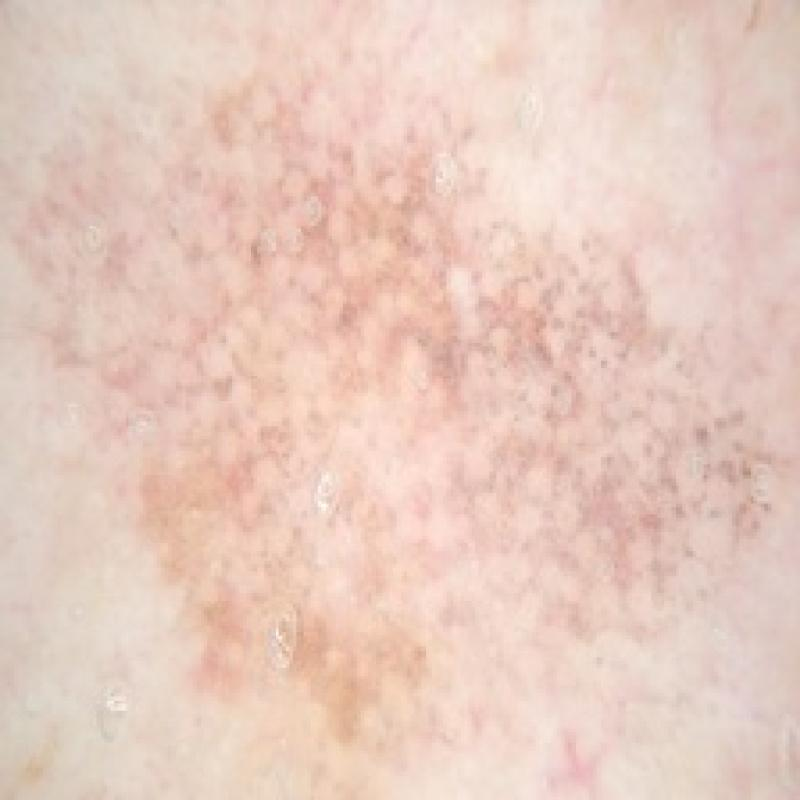malignant: (61, 65, 751, 724)
